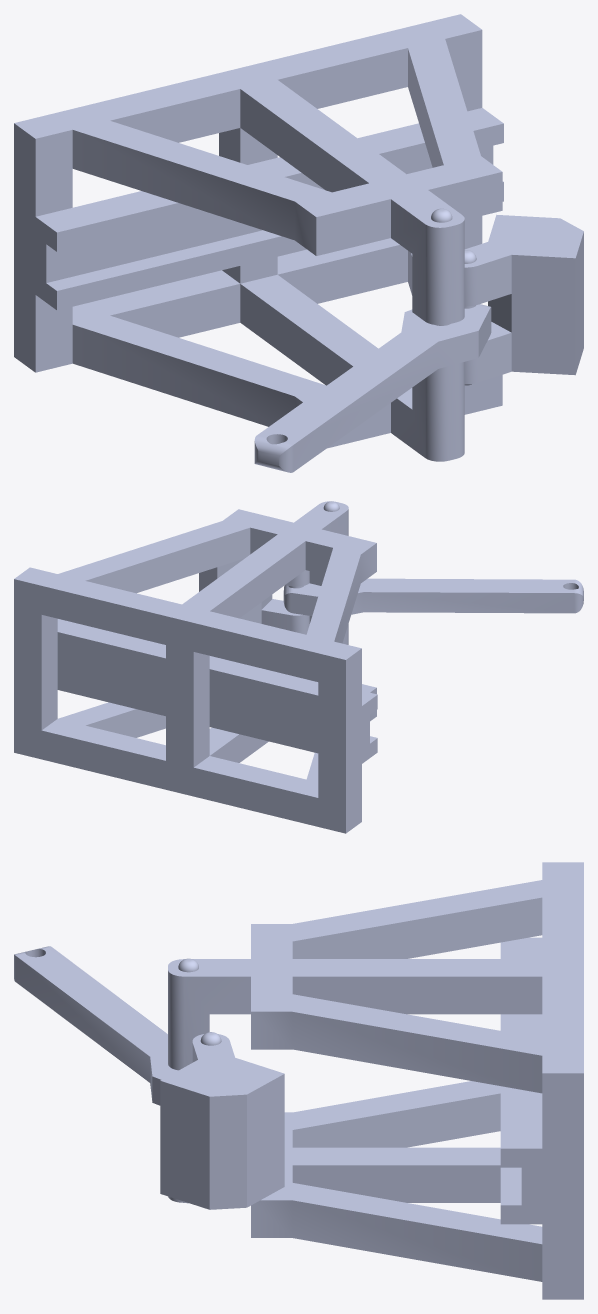
Rendered from trebuchet.fbx.
The picture shows the model from 3 angles, top to bottom: view 1: azimuth 30°, elevation 25°; view 2: azimuth 150°, elevation 25°; view 3: azimuth 270°, elevation 25°; orthographic projection. The views are drawn at different scales.
Parts seen in each view (by area): view 1: trebuchet_yeah.wrl.cleaner.materialmerger.gles; view 2: trebuchet_yeah.wrl.cleaner.materialmerger.gles; view 3: trebuchet_yeah.wrl.cleaner.materialmerger.gles.
Part boxes in pixels (x1=…): trebuchet_yeah.wrl.cleaner.materialmerger.gles: x1=14, y1=14, x2=583, y2=472; trebuchet_yeah.wrl.cleaner.materialmerger.gles: x1=14, y1=501, x2=583, y2=833; trebuchet_yeah.wrl.cleaner.materialmerger.gles: x1=14, y1=862, x2=583, y2=1299.
Bounding box in the file's own units: 0.1654 × 0.0813 × 0.174.
